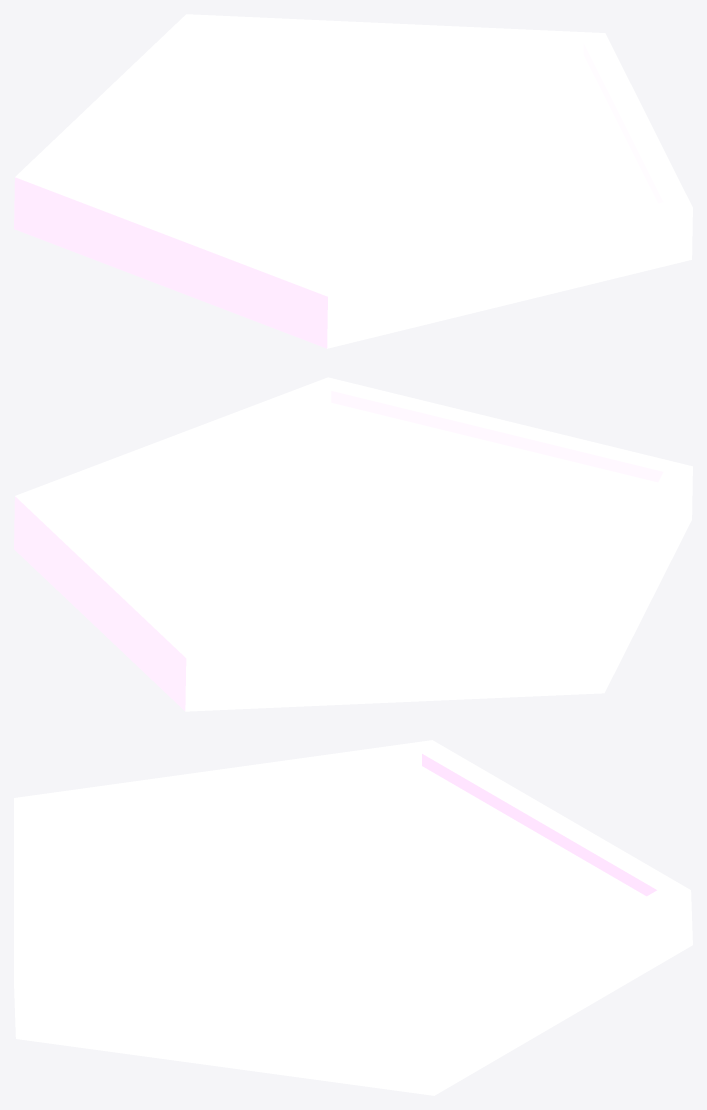
The model's file is SFI0210025.fbx.
3 renders of one model, top to bottom at view 1: azimuth 30°, elevation 25°; view 2: azimuth 150°, elevation 25°; view 3: azimuth 270°, elevation 25°, orthographic. The views are drawn at different scales.
Parts seen in each view (by area): view 1: smSFI0210025; view 2: smSFI0210025; view 3: smSFI0210025.
Boxes of the visible parts, x1,y1,x2,y2 form: smSFI0210025: [14, 14, 692, 348]; smSFI0210025: [14, 377, 692, 711]; smSFI0210025: [14, 740, 692, 1095].
Bounding box in the file's own units: 137 × 11.83 × 130.
